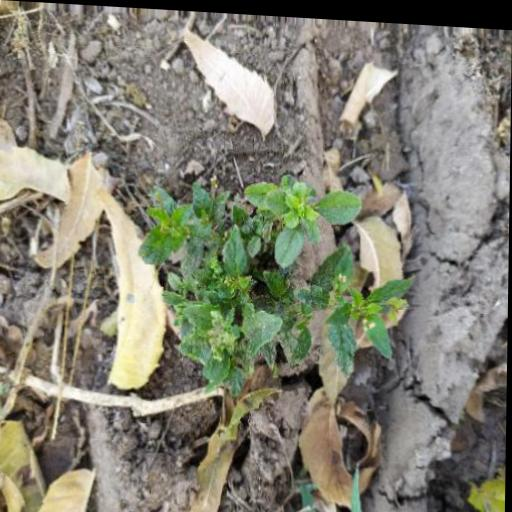weed: (144, 165, 404, 406)
